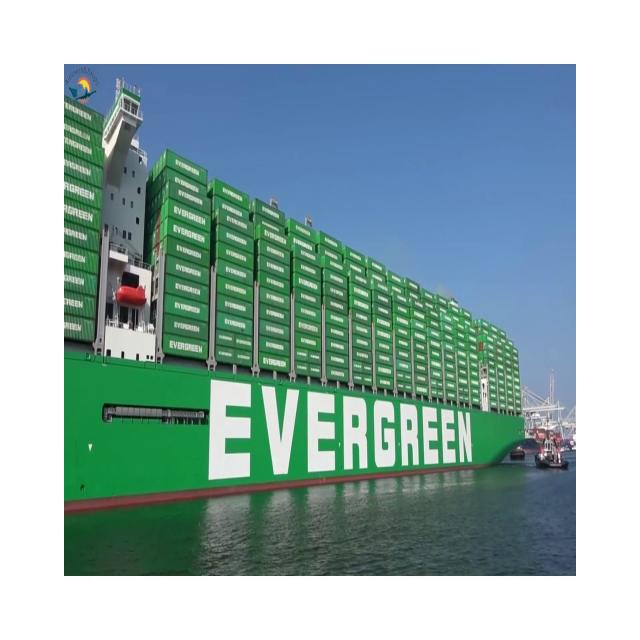OCR: (189, 362, 484, 498)
